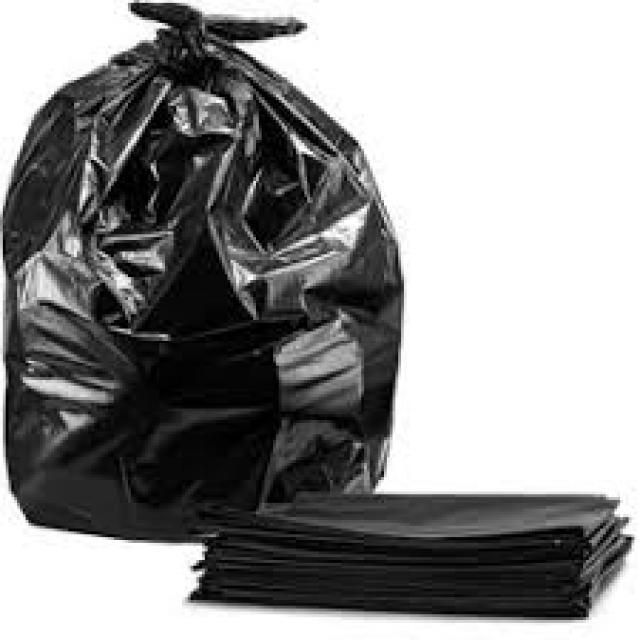garbage: (2, 2, 398, 552)
